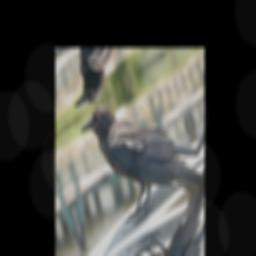Crow: (78, 52, 204, 254)
